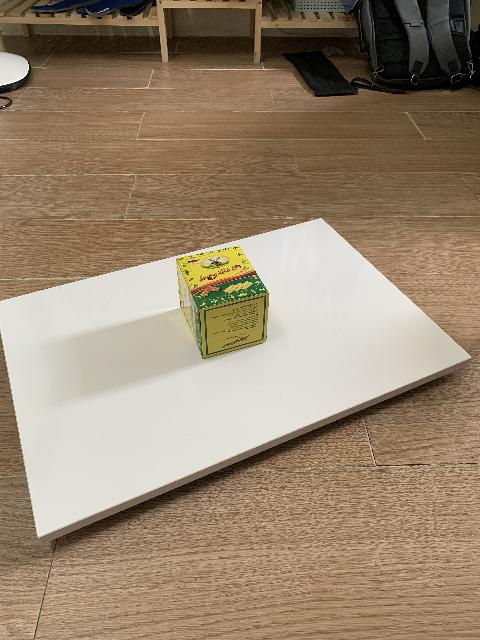luong_kho: (176, 246, 269, 360)
